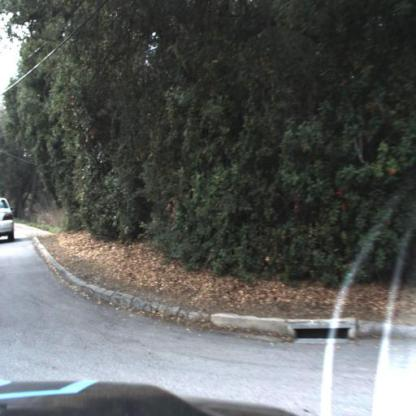car: (0, 196, 17, 238)
